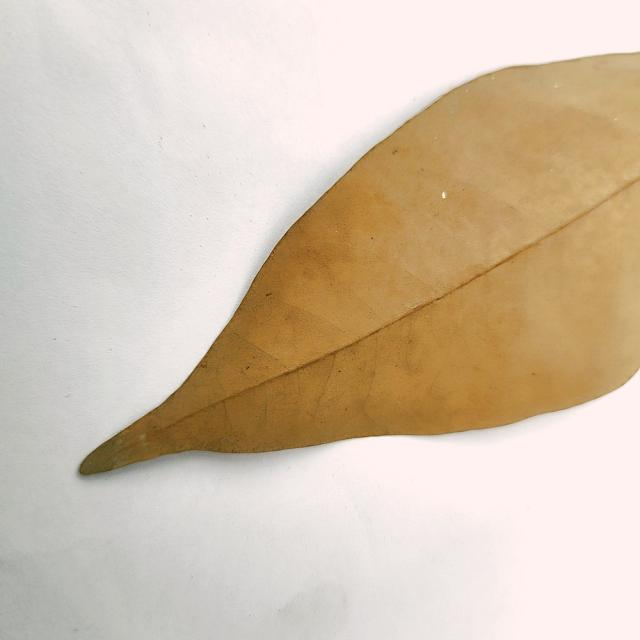Dry_Leaf-Lychee: (77, 51, 639, 479)
